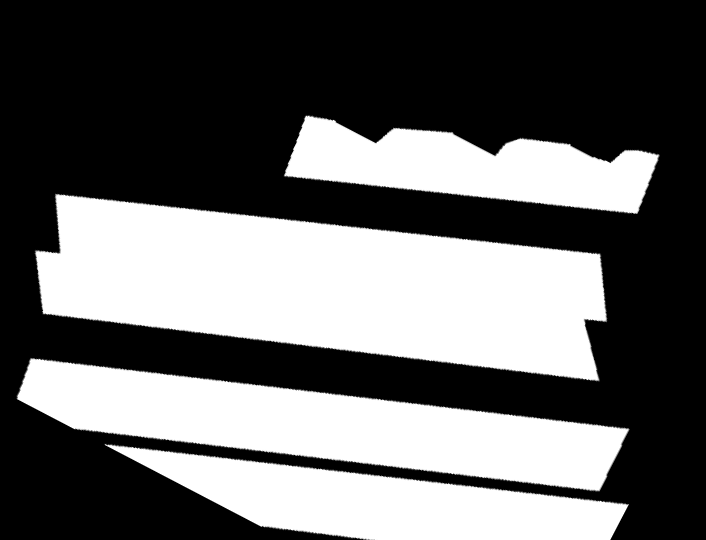parkingspot: (35, 194, 607, 381), (17, 358, 629, 491), (105, 444, 629, 540), (284, 116, 659, 214)
